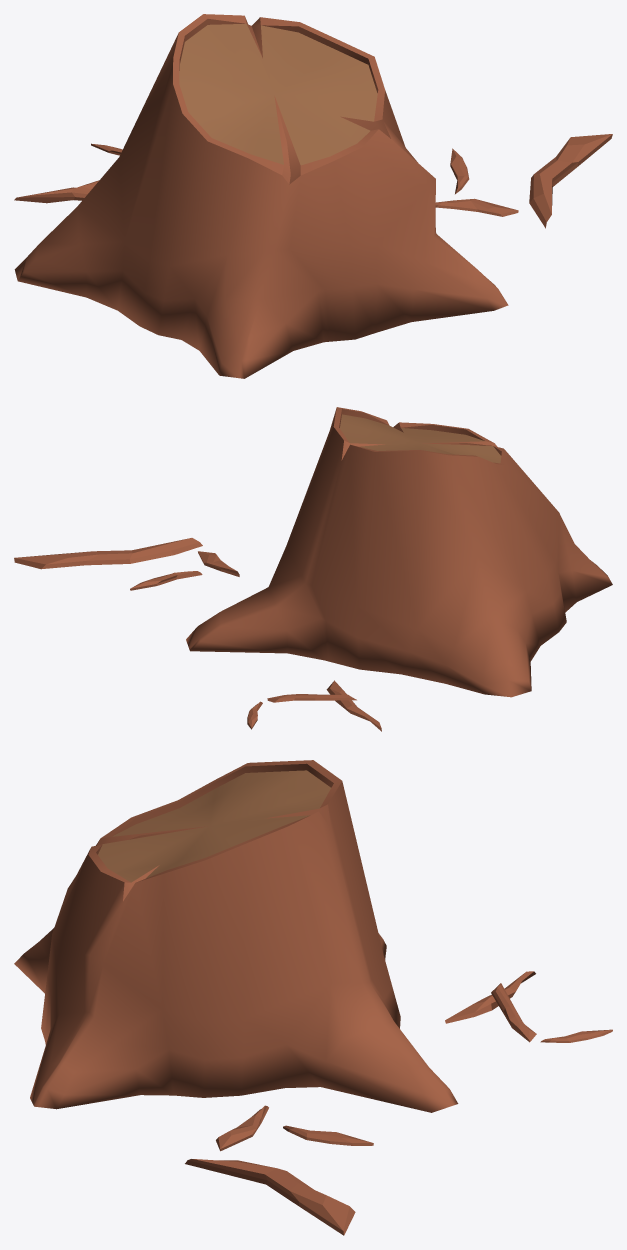
Rendered from TreeLvl1Stump.fbx.
The picture shows the model from 3 angles, top to bottom: view 1: azimuth 30°, elevation 25°; view 2: azimuth 150°, elevation 25°; view 3: azimuth 270°, elevation 25°; orthographic projection. The views are drawn at different scales.
Parts seen in each view (by area): view 1: TreeLvl1Stump; view 2: TreeLvl1Stump; view 3: TreeLvl1Stump.
Boxes of the visible parts, bbox=[...] form: TreeLvl1Stump: bbox=[14, 14, 612, 378]; TreeLvl1Stump: bbox=[14, 407, 612, 731]; TreeLvl1Stump: bbox=[14, 760, 612, 1235].
Bounding box in the file's own units: 337 × 125 × 275.
